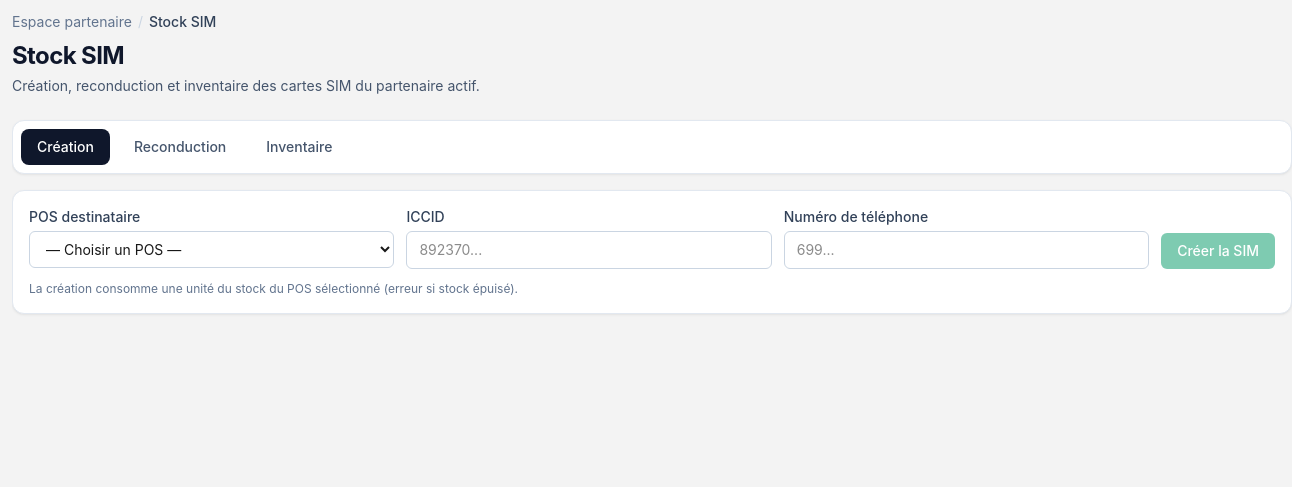
Test: SimsStockPage › affiche un empty state si vide
What coordinates should you click on to do the following:
click the button "Inventaire"
I would click on:
 (299, 147)
Its box is [250,129,348,165].
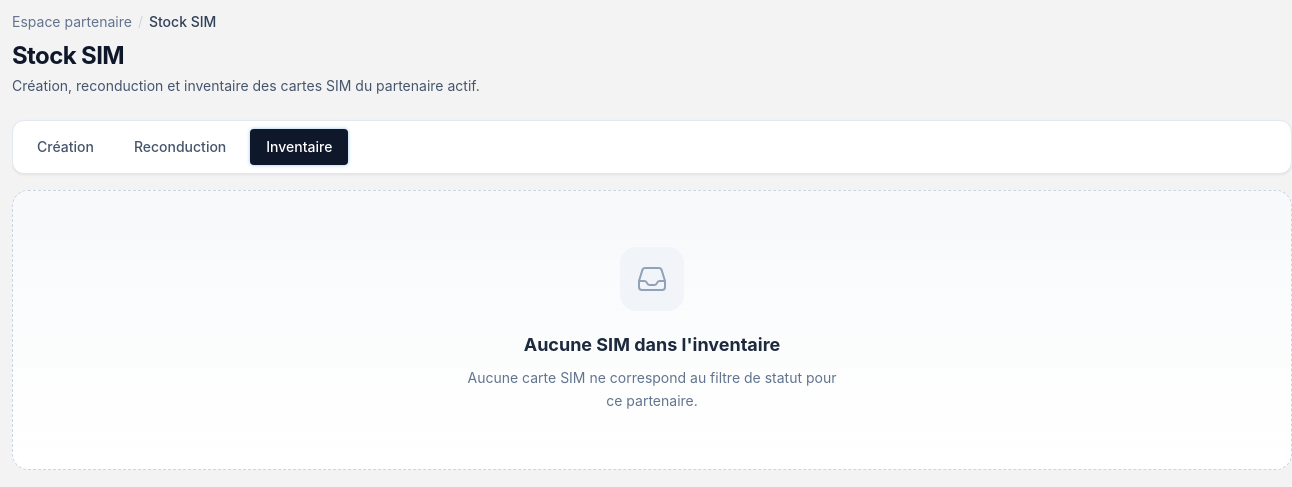
Now the heading "Aucune SIM dans l'inventaire" is shown, box [524,331,780,359]
